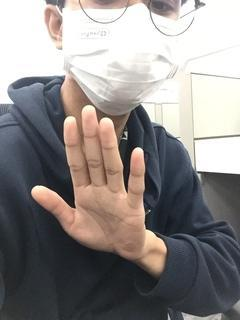hand: (31, 105, 148, 259)
